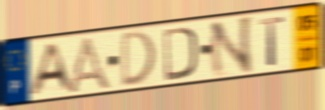A: (64, 34, 115, 93), (26, 41, 75, 98)
D: (119, 28, 157, 90), (161, 25, 199, 83)
N: (207, 13, 255, 80)
T: (257, 14, 287, 67)
